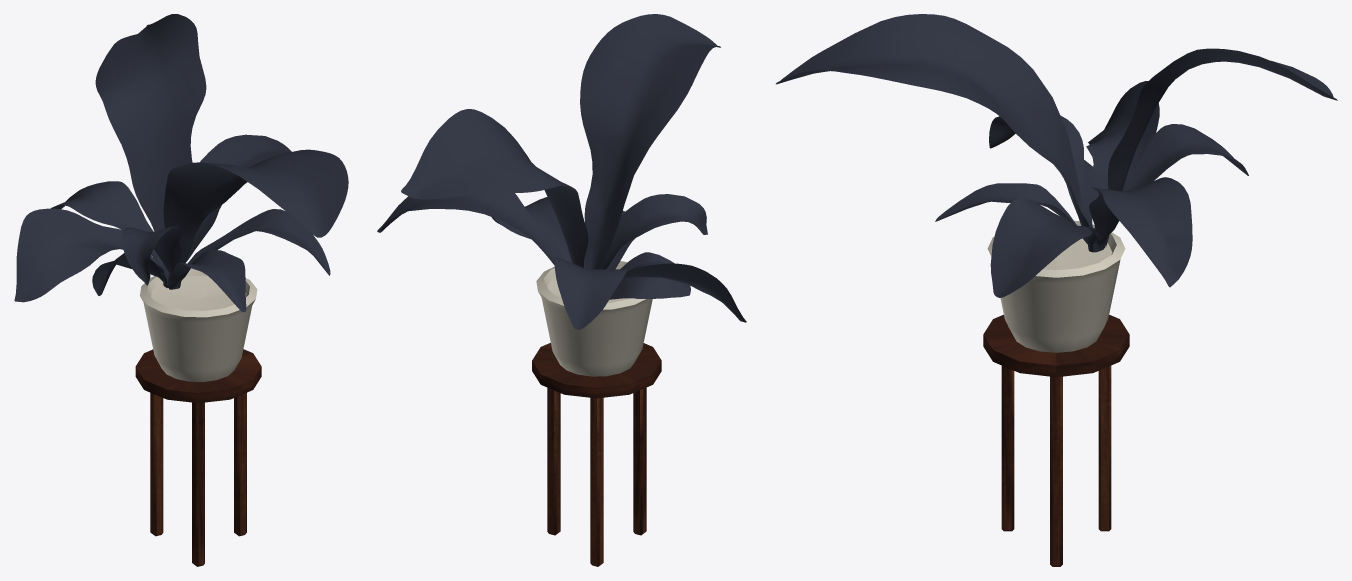
File: PlantPot.fbx
3 renders of one model, left to right at view 1: azimuth 30°, elevation 25°; view 2: azimuth 150°, elevation 25°; view 3: azimuth 270°, elevation 25°, orthographic. The views are drawn at different scales.
Visible parts, largest first — view 1: PlantPot; view 2: PlantPot; view 3: PlantPot.
Boxes of the visible parts, x1,y1,x2,y2 form: PlantPot: (14, 14, 348, 566); PlantPot: (377, 14, 746, 566); PlantPot: (776, 14, 1337, 566).
Size of the model in its own units: 1.03 by 1.35 by 1.3.
